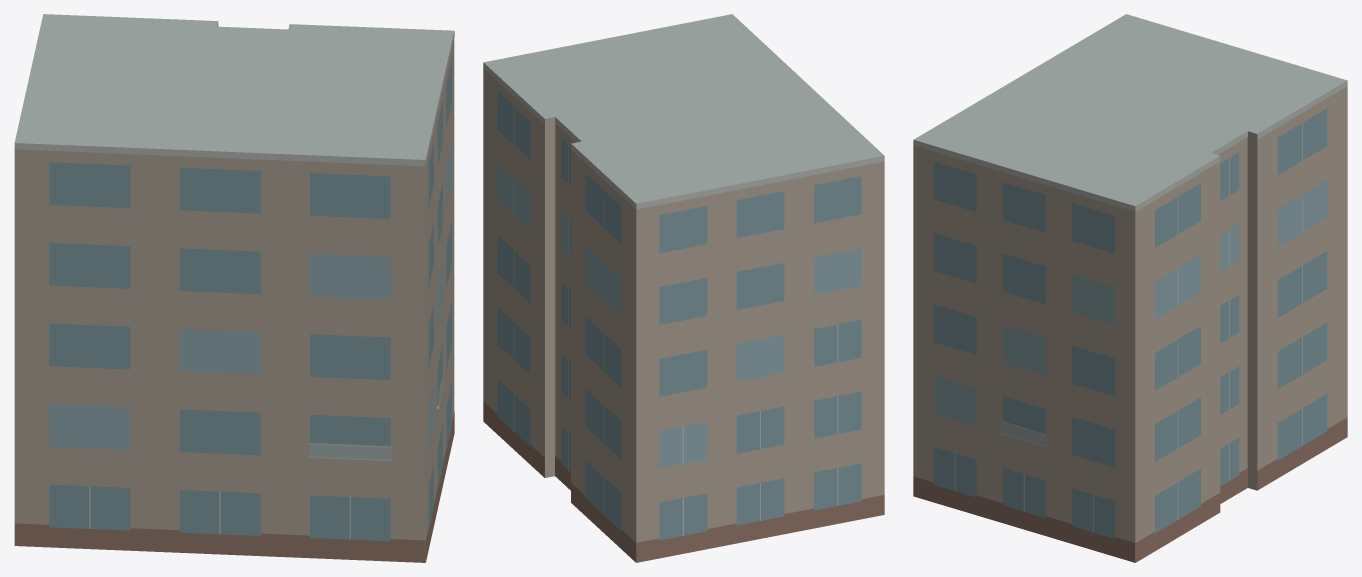
The model's file is survey-upis-32732922.glb.
3 renders of one model, left to right at view 1: azimuth 30°, elevation 25°; view 2: azimuth 150°, elevation 25°; view 3: azimuth 270°, elevation 25°, orthographic. The views are drawn at different scales.
Parts seen in each view (by area): view 1: survey-upis-32732922.tmp; view 2: survey-upis-32732922.tmp; view 3: survey-upis-32732922.tmp.
Boxes of the visible parts, x1,y1,x2,y2 form: survey-upis-32732922.tmp: (14, 14, 454, 562); survey-upis-32732922.tmp: (483, 14, 884, 562); survey-upis-32732922.tmp: (913, 14, 1347, 562).
Bounding box in the file's own units: 17.64 × 15.25 × 16.83.
